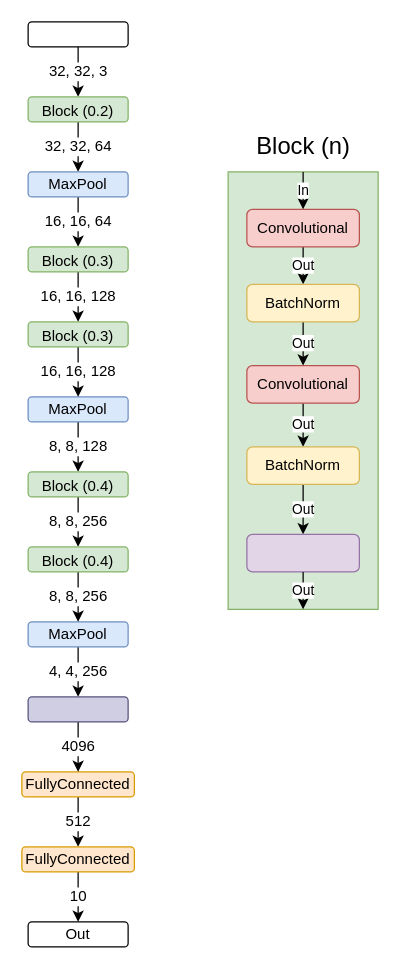
The diagram is 400 pixels wide and 969 high, and some of its shapes have lost their labels. The shapes that lost their labels are listed below. From the top down, each one's centre as x and y in pixels, then its label:
At [77,34]: "Input".
At [302,552]: "Dropout (n)".
At [77,709]: "Flattern".
